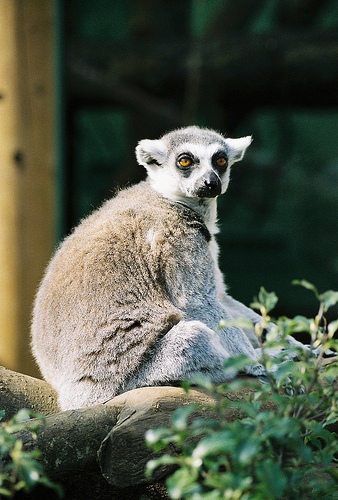cat: (26, 122, 312, 413)
